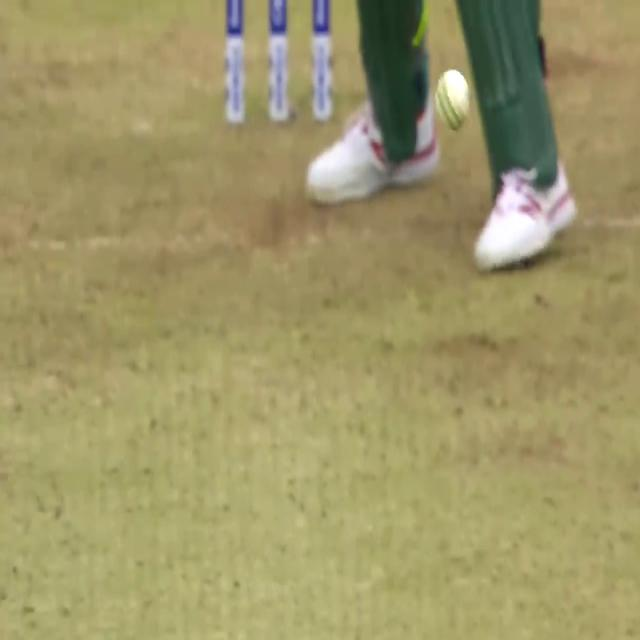ball: (425, 61, 481, 148)
